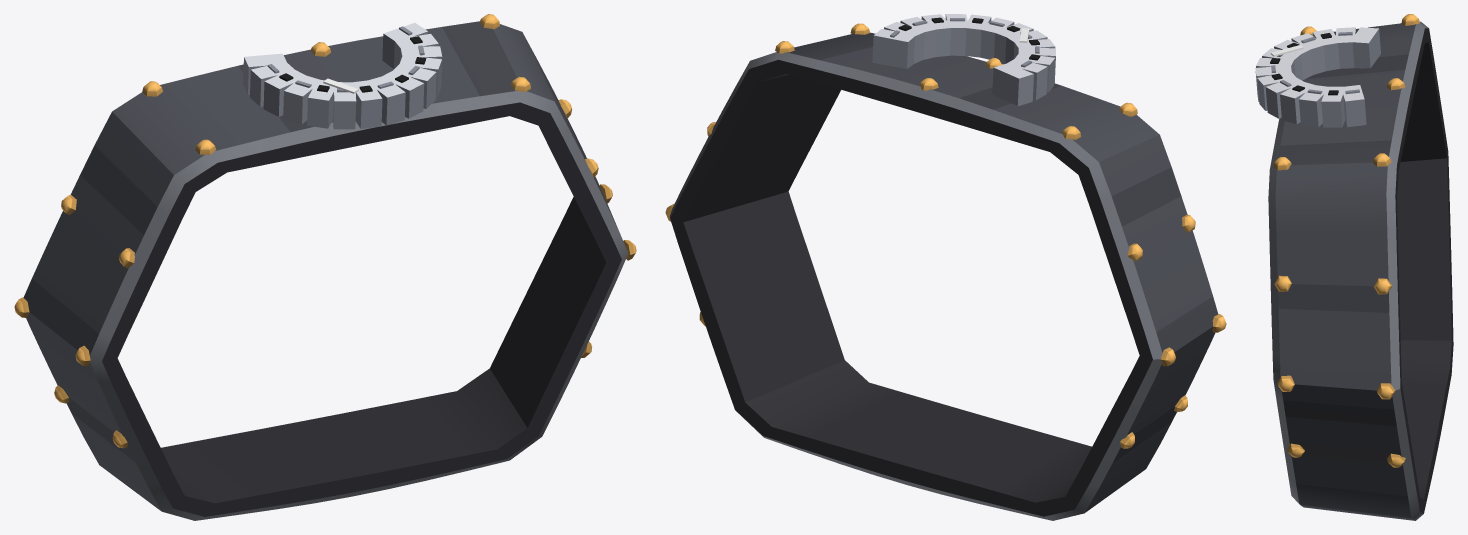
Rendered from Wrist_Horseshoe.fbx.
The picture shows the model from 3 angles, left to right: view 1: azimuth 30°, elevation 25°; view 2: azimuth 150°, elevation 25°; view 3: azimuth 270°, elevation 25°; orthographic projection. The views are drawn at different scales.
Parts seen in each view (by area): view 1: Wrist_Horseshoe; view 2: Wrist_Horseshoe; view 3: Wrist_Horseshoe.
Boxes of the visible parts, left/top/right/bottom form: Wrist_Horseshoe: left=14, top=14, right=636, bottom=520; Wrist_Horseshoe: left=665, top=14, right=1226, bottom=520; Wrist_Horseshoe: left=1255, top=14, right=1453, bottom=520.
Bounding box in the file's own units: 0.4937 × 0.3622 × 0.1669.
1 material, 1 textured.
